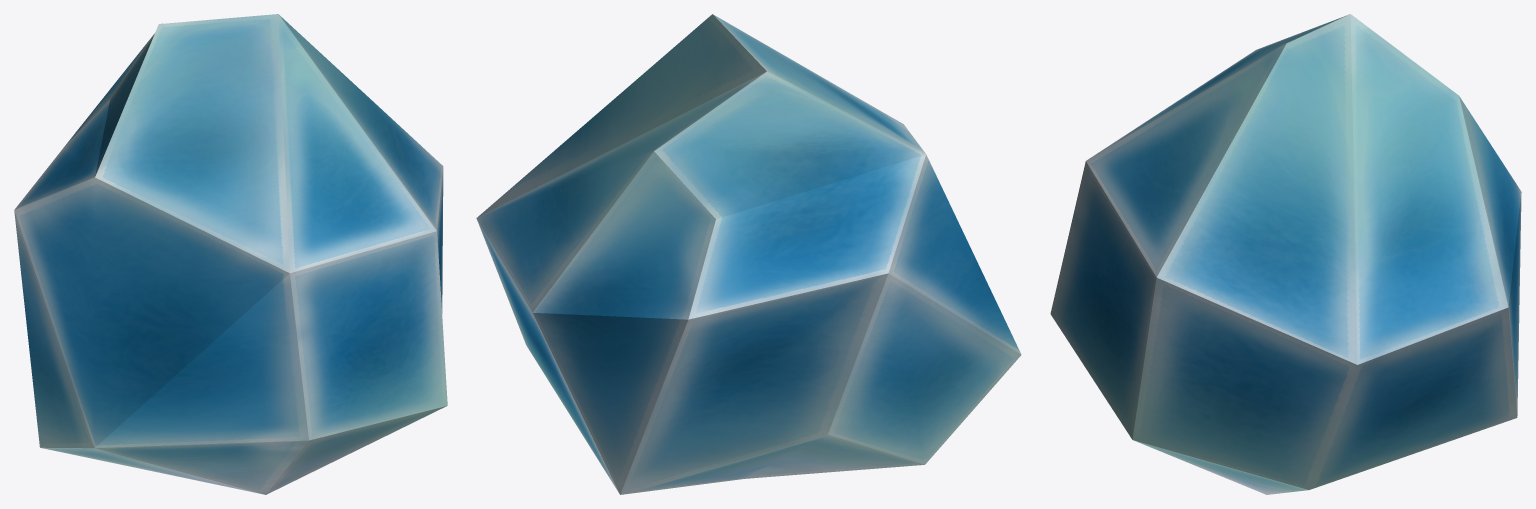
The model's file is Gems_2.fbx.
3 views of the same model, side by side, from view 1: azimuth 30°, elevation 25°; view 2: azimuth 150°, elevation 25°; view 3: azimuth 270°, elevation 25° (orthographic).
Visible parts, largest first — view 1: Gems_1; view 2: Gems_1; view 3: Gems_1.
Boxes of the visible parts, x1=… form: Gems_1: x1=14, y1=14, x2=447, y2=494; Gems_1: x1=476, y1=14, x2=1021, y2=494; Gems_1: x1=1050, y1=14, x2=1521, y2=494.
Size of the model in its own units: 2.17 by 2.17 by 2.
